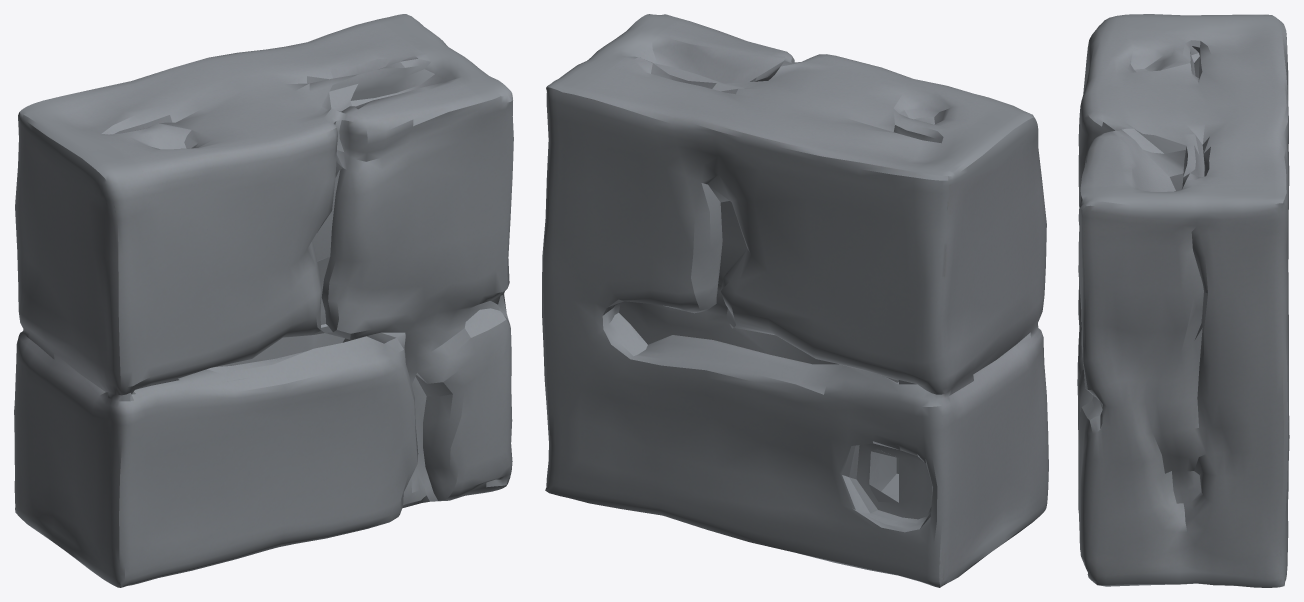
The model's file is brick_std_cinder_b.glb.
The picture shows the model from 3 angles, left to right: view 1: azimuth 30°, elevation 25°; view 2: azimuth 150°, elevation 25°; view 3: azimuth 270°, elevation 25°; orthographic projection. The views are drawn at different scales.
Parts seen in each view (by area): view 1: Mesh_0; view 2: Mesh_0; view 3: Mesh_0.
Boxes of the visible parts, left/top/right/bottom form: Mesh_0: left=14, top=14, right=513, bottom=587; Mesh_0: left=542, top=14, right=1048, bottom=587; Mesh_0: left=1077, top=14, right=1289, bottom=587.
Bounding box in the file's own units: 1.9 × 1.84 × 0.904.
1 material, 1 textured.
